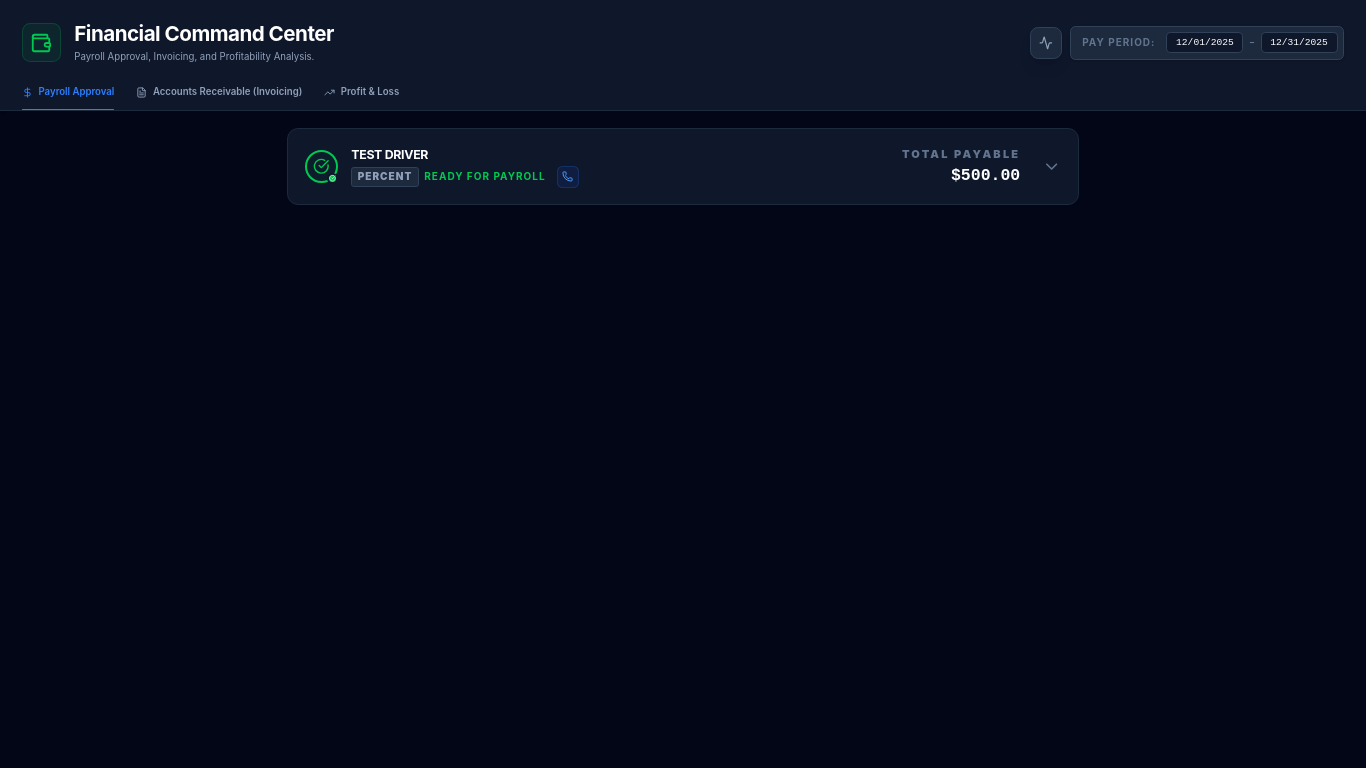
Scenario: Settlements deep coverage › Deductions (service layer) › shows empty deductions from service layer (no hardcoded demo items)
Step 1. Click the heading "Test Driver" → (390, 154), box [351,147,428,162]
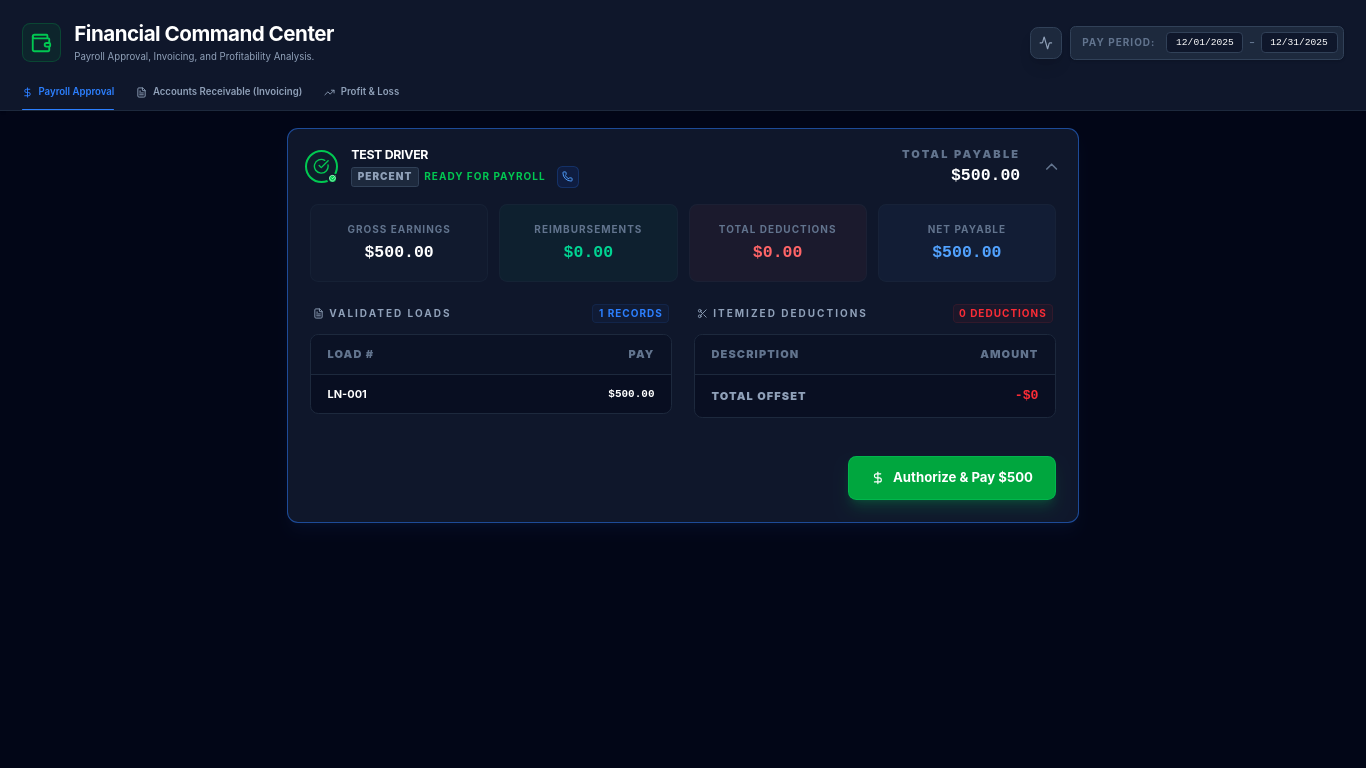
Expected: the text "Total Deductions" is shown, [719,222,836,237]
